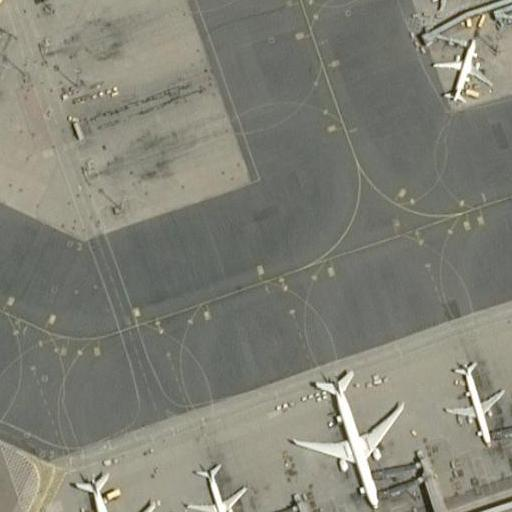Aircraft: (280, 366, 411, 510), (288, 365, 405, 507), (434, 351, 512, 448), (439, 355, 505, 445), (42, 466, 163, 512), (423, 27, 494, 104), (170, 453, 255, 512), (47, 467, 155, 512), (429, 33, 493, 103), (184, 457, 250, 512), (393, 0, 477, 9), (400, 0, 478, 8)
